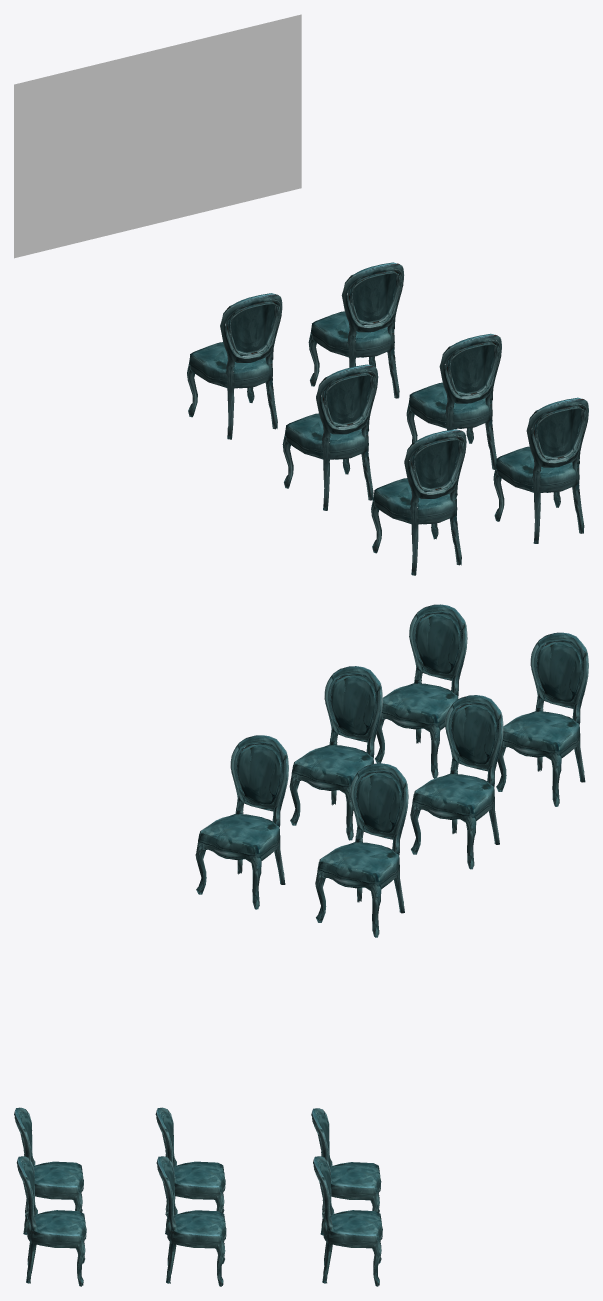
Rendered from teatro.glb.
3 renders of one model, top to bottom at view 1: azimuth 30°, elevation 25°; view 2: azimuth 150°, elevation 25°; view 3: azimuth 270°, elevation 25°, orthographic. The views are drawn at different scales.
Parts seen in each view (by area): view 1: Plane, silla2, silla1, silla5, silla3, silla6, silla4; view 2: silla6, silla5, silla3, silla2, silla1, silla4; view 3: silla4, silla6, silla1, silla3, silla2, silla5.
Part boxes in pixels (x1,y1,x2,y2): Plane: [14, 14, 301, 258]; silla2: [371, 429, 466, 575]; silla1: [493, 397, 588, 543]; silla5: [187, 293, 282, 439]; silla3: [282, 364, 378, 510]; silla6: [308, 262, 404, 398]; silla4: [406, 333, 501, 469]; silla6: [195, 735, 288, 909]; silla5: [315, 763, 408, 937]; silla3: [410, 695, 503, 869]; silla2: [496, 632, 588, 806]; silla1: [375, 604, 467, 778]; silla4: [289, 666, 382, 840]; silla4: [156, 1156, 226, 1286]; silla6: [313, 1156, 382, 1286]; silla1: [16, 1156, 86, 1286]; silla3: [155, 1107, 225, 1234]; silla2: [14, 1107, 83, 1234]; silla5: [311, 1108, 381, 1235].
Size of the model in its own units: 4.04 by 3.31 by 8.71.
Materials: 1 (1 with a texture image).
